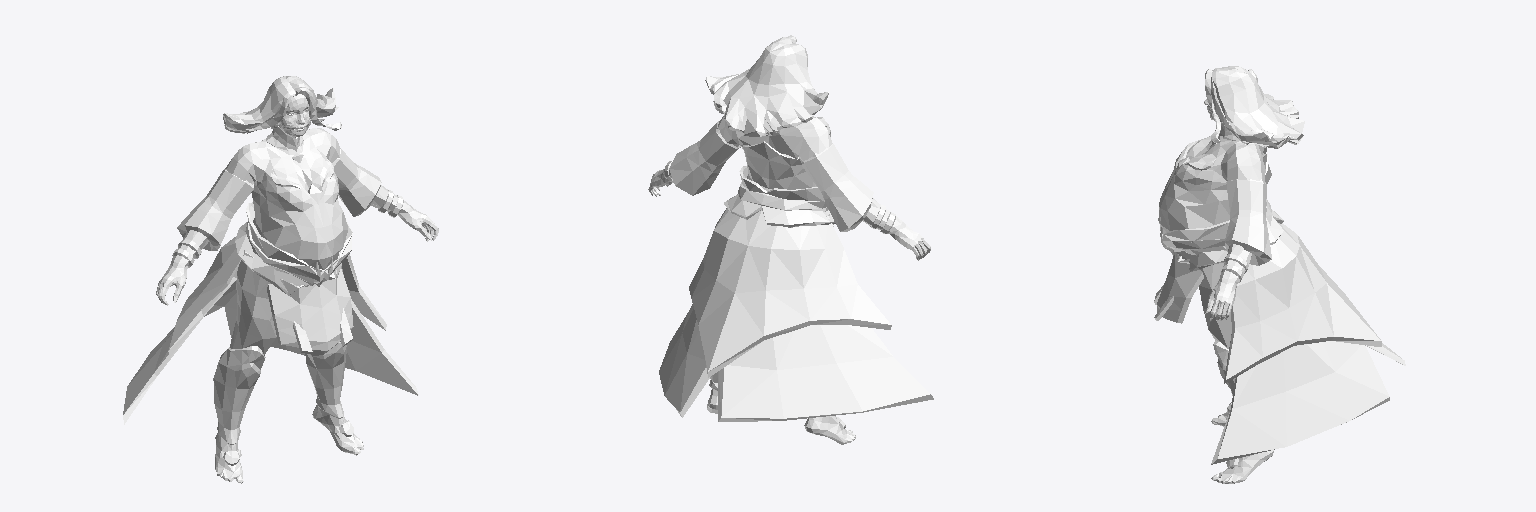
Rendered from lina_statue_000008.obj.
The picture shows the model from 3 angles: view 1: azimuth 30°, elevation 25°; view 2: azimuth 150°, elevation 25°; view 3: azimuth 270°, elevation 25°; orthographic projection.
Parts seen in each view (by area): view 1: lina_body.001_lina_body; view 2: lina_body.001_lina_body; view 3: lina_body.001_lina_body.
Part boxes in pixels (x1,y1,x2,y2): lina_body.001_lina_body: (123,76,438,483); lina_body.001_lina_body: (648,35,933,444); lina_body.001_lina_body: (1154,66,1405,483).
Bounding box in the file's own units: 145 × 179 × 106.